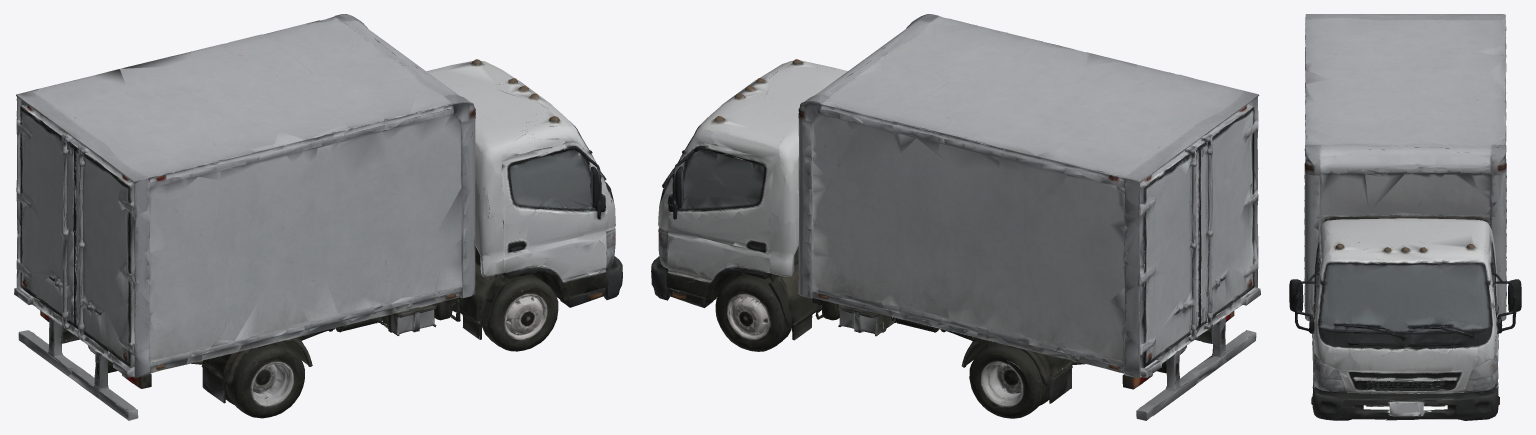
Rendered from caminhao-bau-leve__01a16c1b.glb.
3 renders of one model, left to right at view 1: azimuth 30°, elevation 25°; view 2: azimuth 150°, elevation 25°; view 3: azimuth 270°, elevation 25°, orthographic. The views are drawn at different scales.
Parts seen in each view (by area): view 1: caminhao-bau-leve; view 2: caminhao-bau-leve; view 3: caminhao-bau-leve.
Part boxes in pixels (x1,y1,x2,y2): caminhao-bau-leve: (14, 14, 622, 420); caminhao-bau-leve: (651, 14, 1260, 420); caminhao-bau-leve: (1289, 14, 1521, 420).
Size of the model in its own units: 6.3 by 3.26 by 2.96.
Materials: 1 (1 with a texture image).
